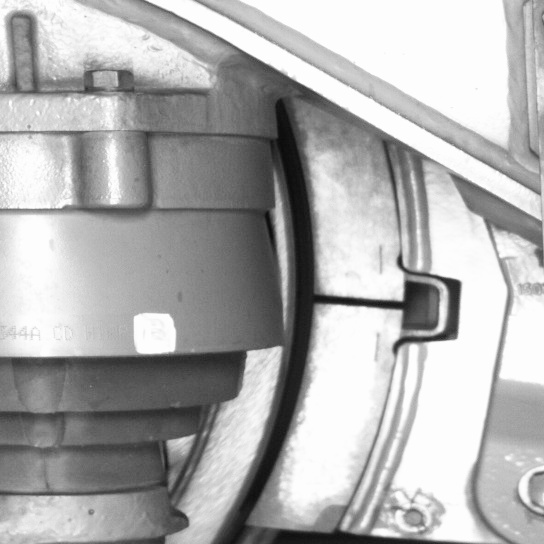KnifeSwitch: (211, 135, 427, 544)
